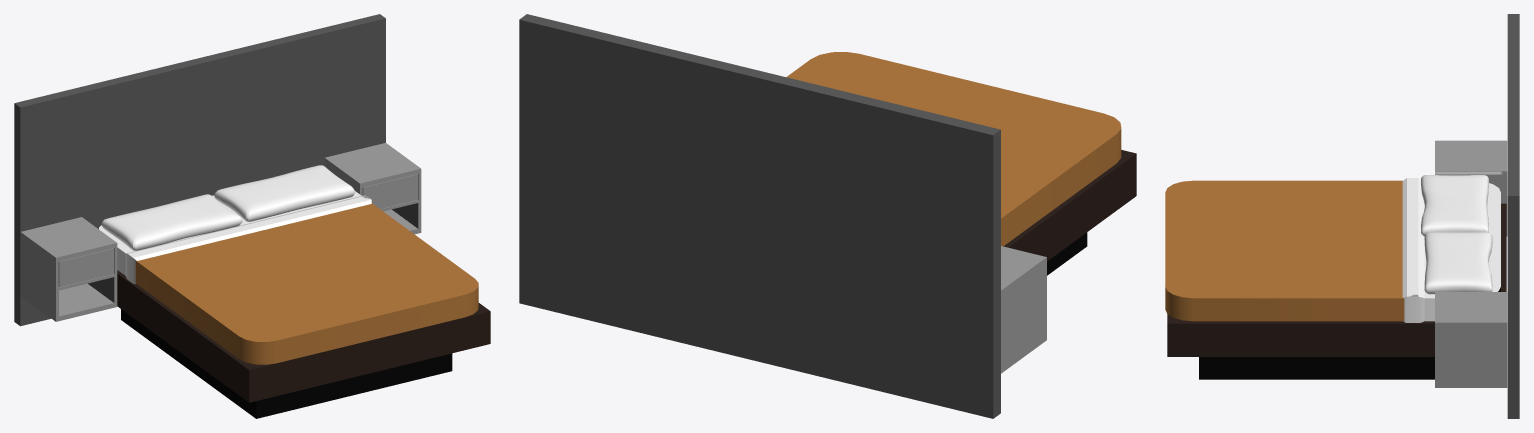
The model's file is Cama.fbx.
3 views of the same model, side by side, from view 1: azimuth 30°, elevation 25°; view 2: azimuth 150°, elevation 25°; view 3: azimuth 270°, elevation 25° (orthographic). The views are drawn at different scales.
Visible parts, largest first — view 1: Cubo.008; view 2: Cubo.008; view 3: Cubo.008.
Boxes of the visible parts, <box> form: Cubo.008: <box>14,14,490,418</box>; Cubo.008: <box>519,14,1136,418</box>; Cubo.008: <box>1165,14,1519,418</box>.
Bounding box in the file's own units: 310 × 179 × 255.
